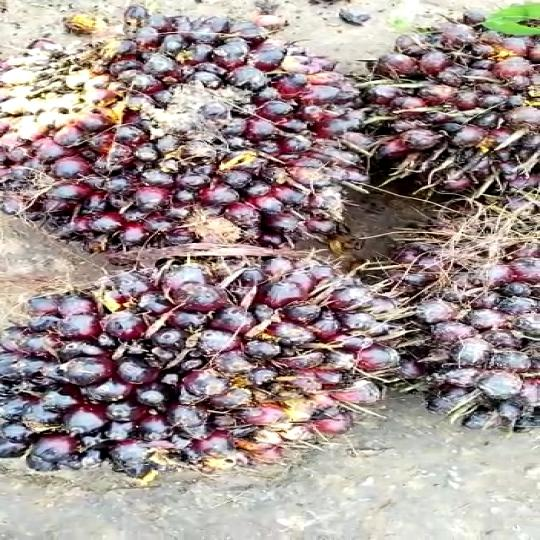kurang masak: (0, 220, 399, 501), (16, 0, 384, 244)
